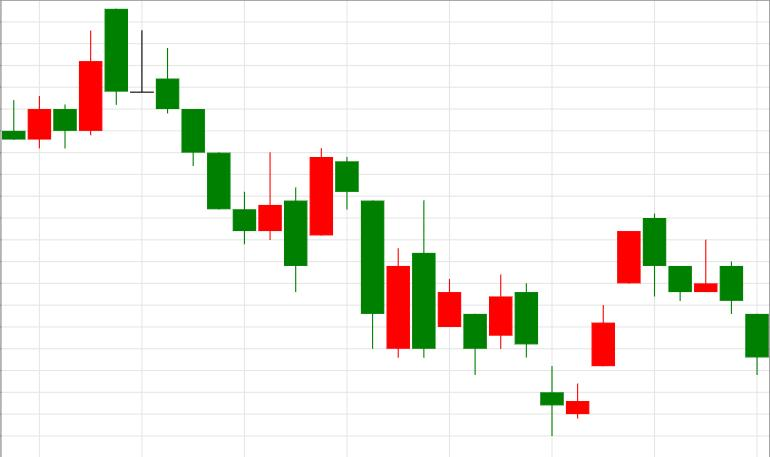inverse_hammer_rise: (105, 9, 283, 244)
